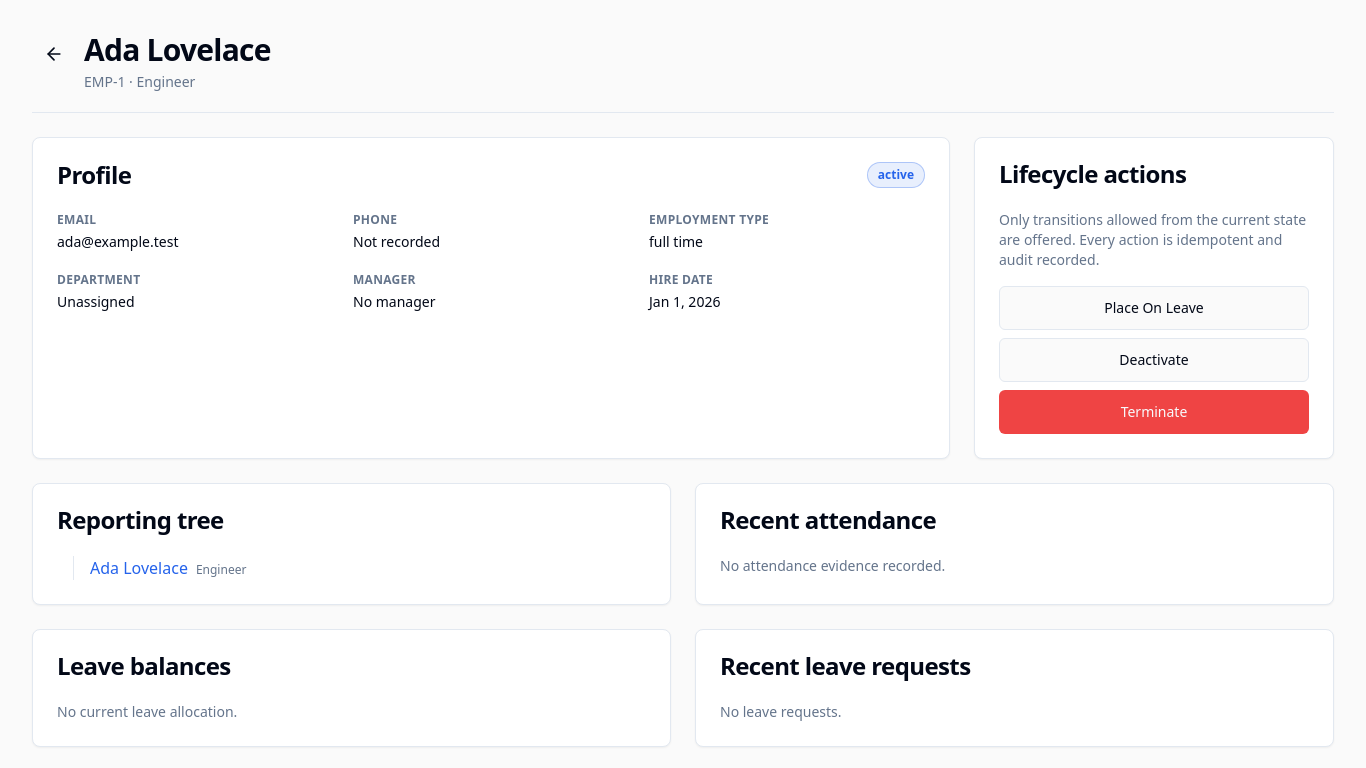
Human Resources pages › offers lifecycle actions only when the transition capability is returned
This screenshot has width=1366, height=768.
Click the button "place on leave" at (1154, 308), box [999,286,1309,330]
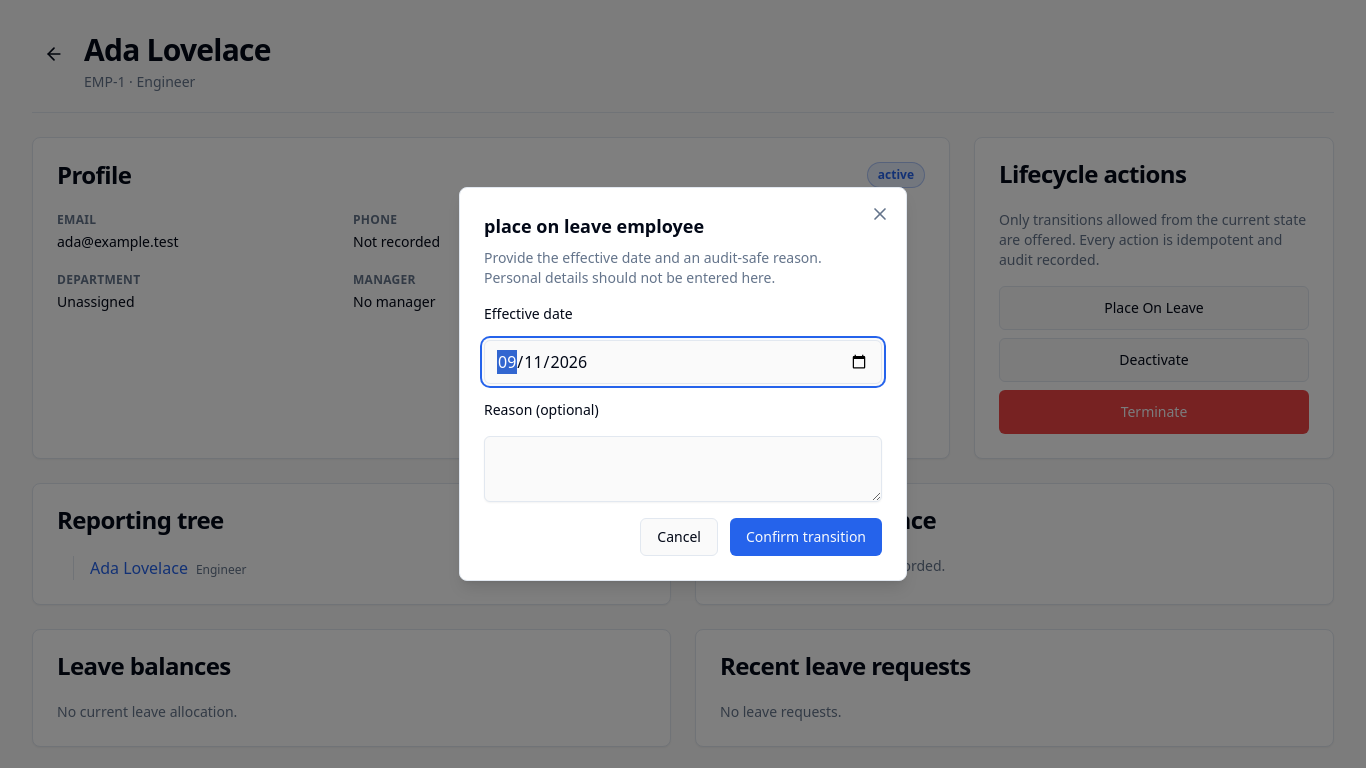
Expected: the dialog shows "place on leave employee", [484,214,704,238]
